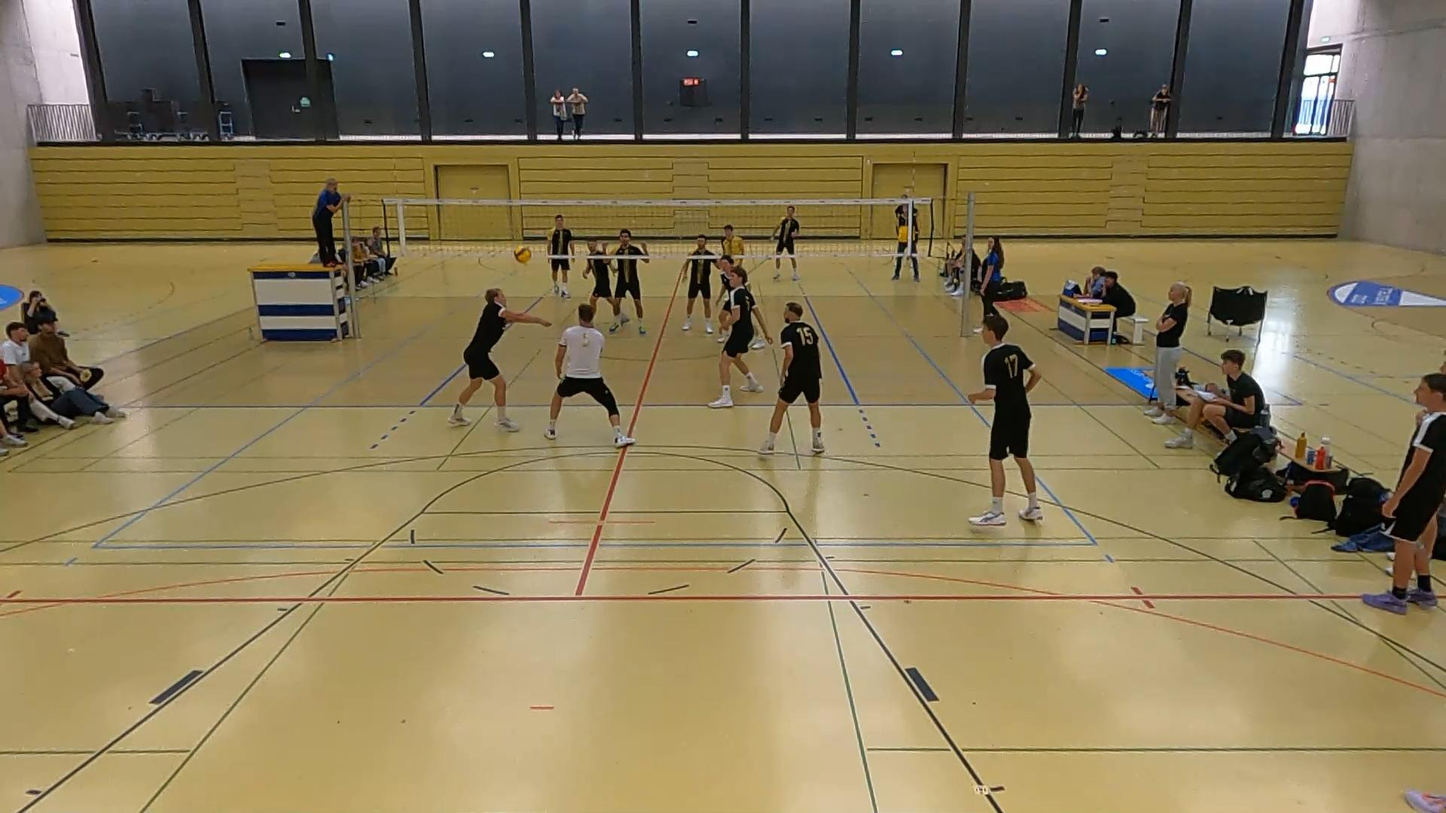ricezione: (441, 286, 555, 432)
